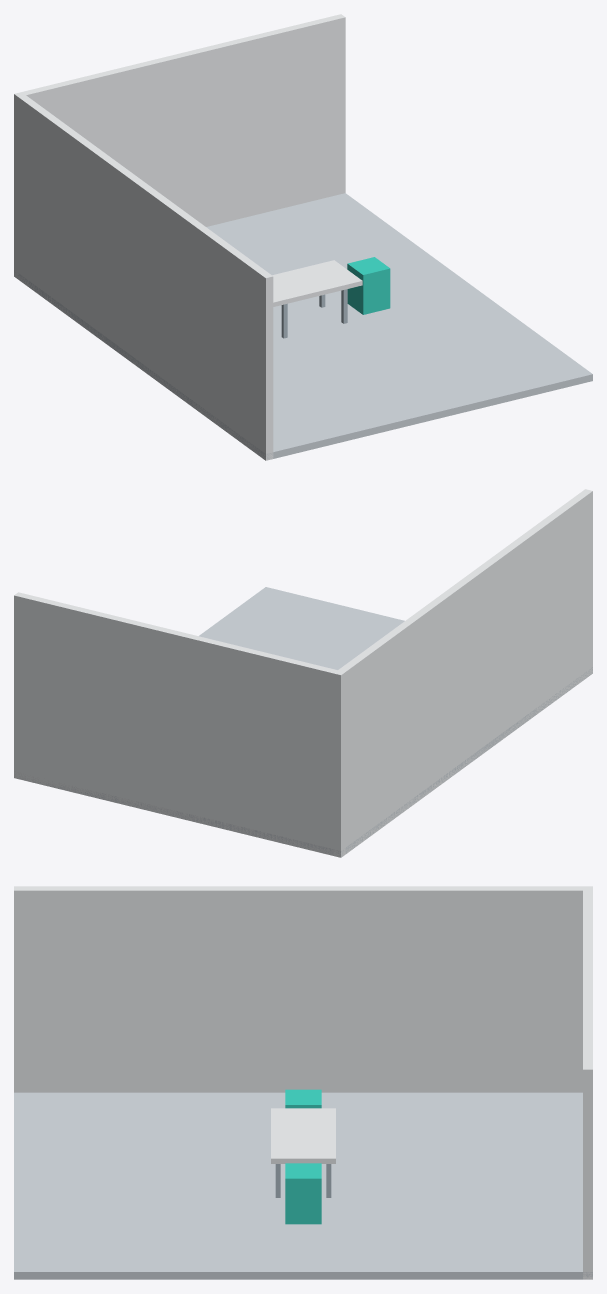
The picture shows the model from 3 angles, top to bottom: view 1: azimuth 30°, elevation 25°; view 2: azimuth 150°, elevation 25°; view 3: azimuth 270°, elevation 25°; orthographic projection. The views are drawn at different scales.
Visible parts, largest first — view 1: Exhibition Booth Concept; view 2: Exhibition Booth Concept; view 3: Exhibition Booth Concept.
Part boxes in pixels (x1=…): Exhibition Booth Concept: x1=14, y1=14, x2=592, y2=460; Exhibition Booth Concept: x1=14, y1=489, x2=592, y2=857; Exhibition Booth Concept: x1=14, y1=886, x2=592, y2=1279.
Size of the model in its own units: 6 by 3.2 by 8.
